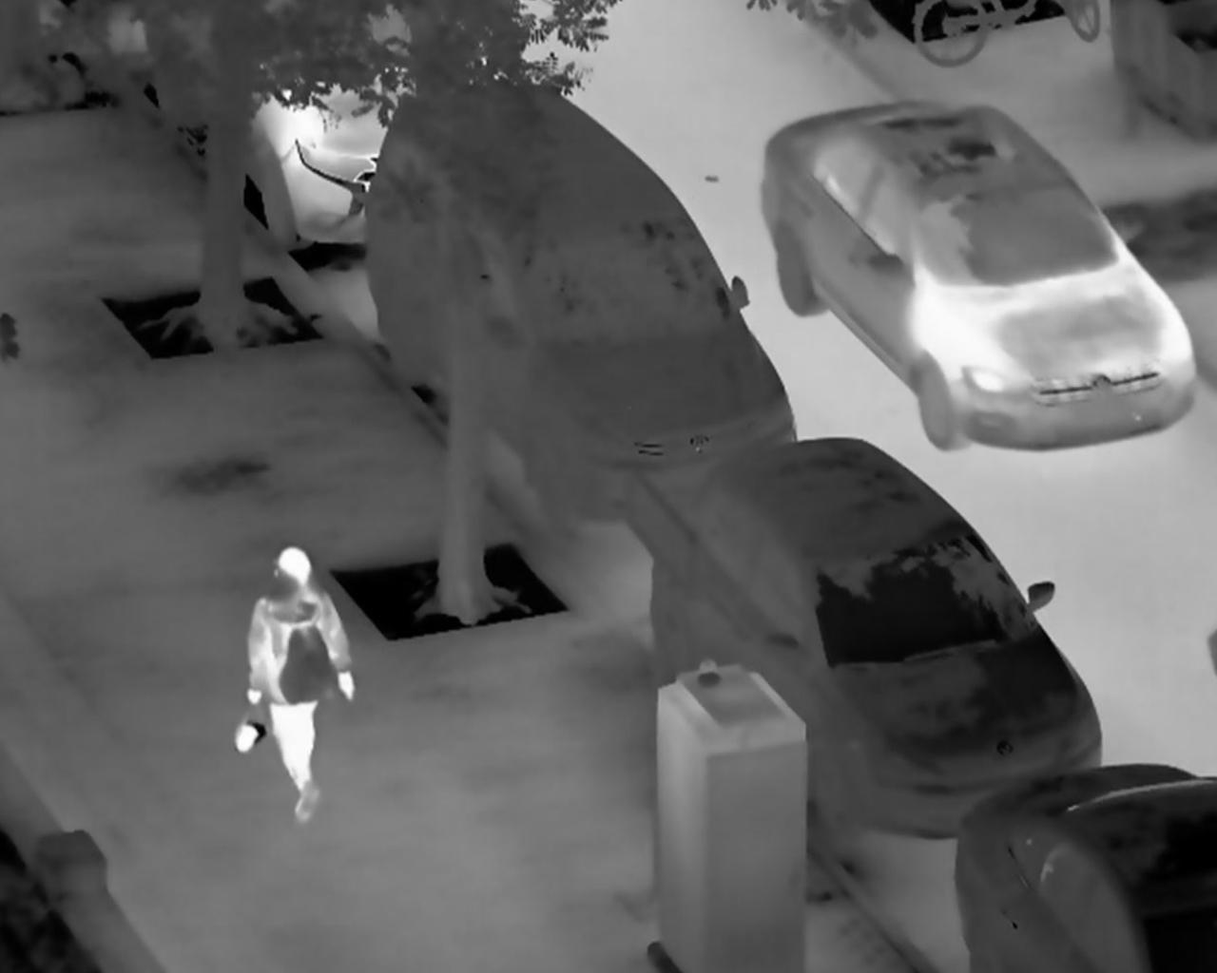person: (246, 541, 357, 823)
